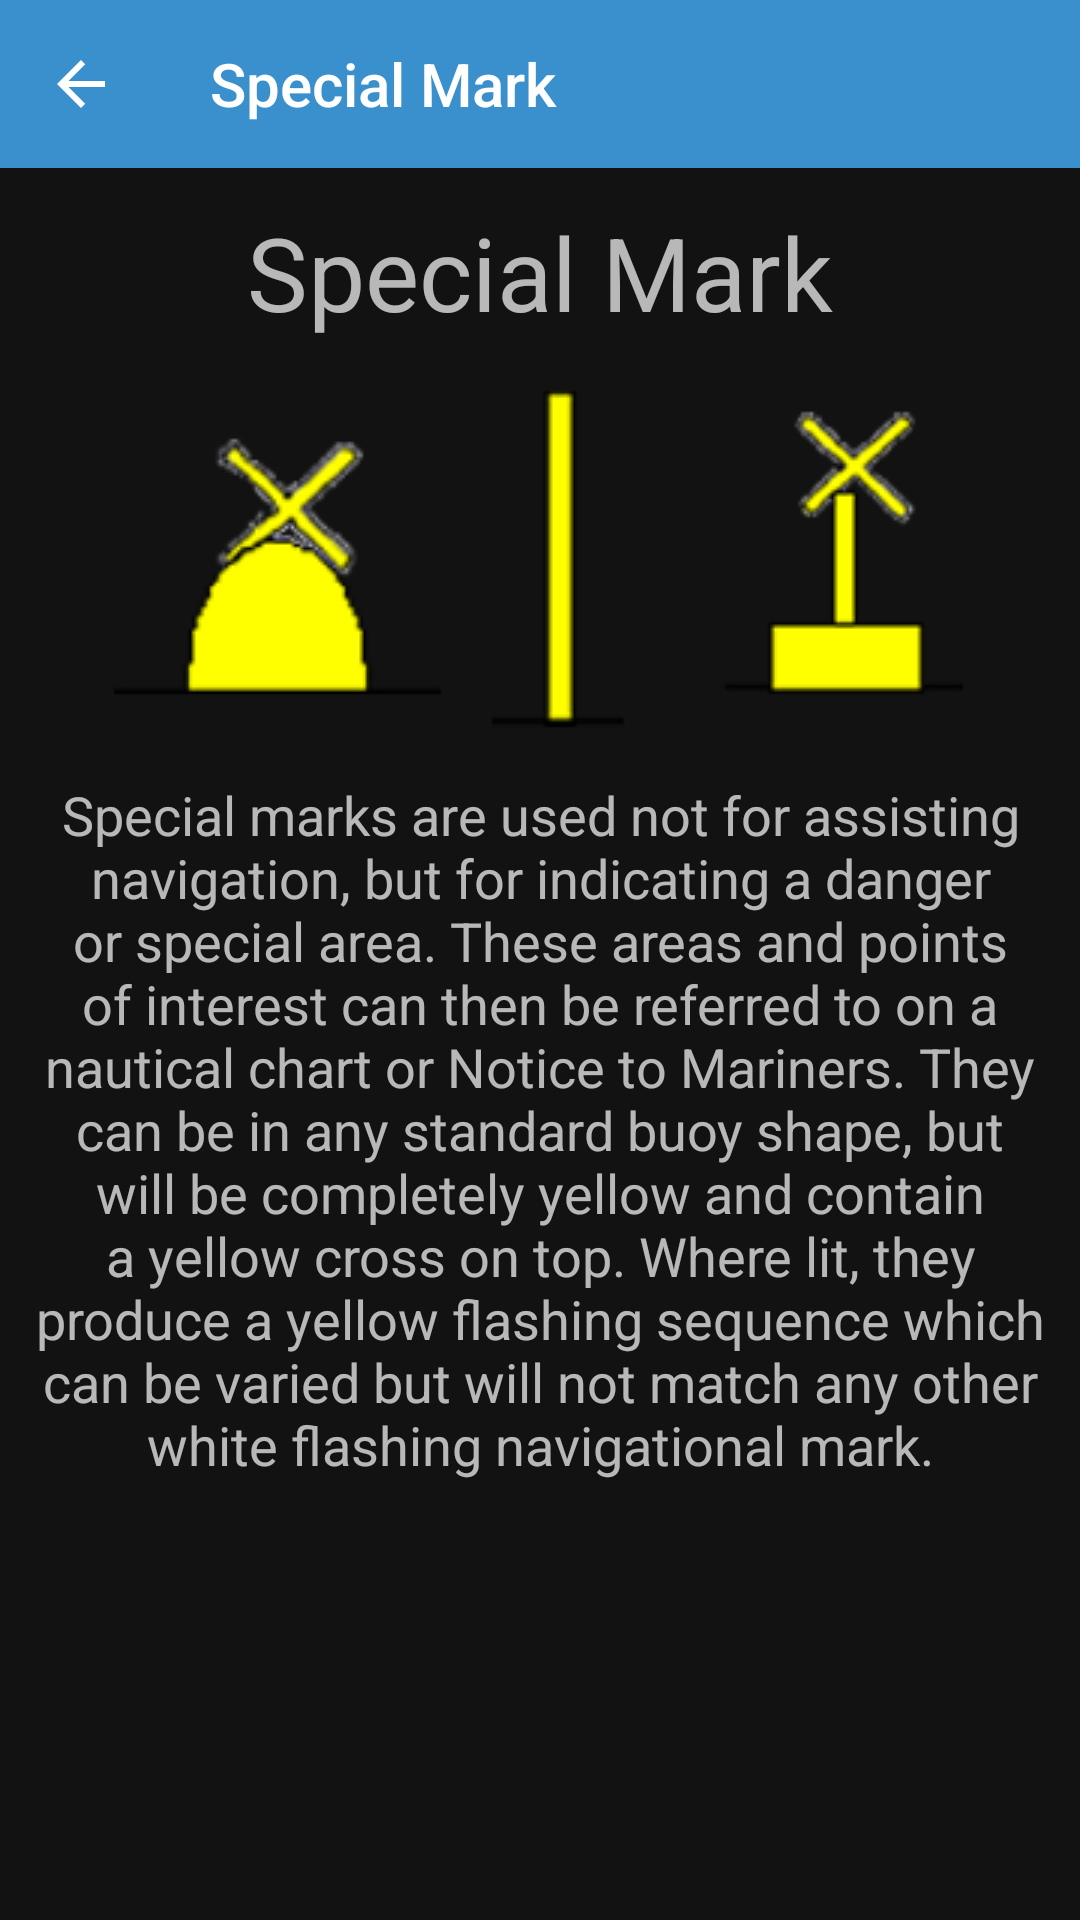

Icons on this 1080px×1920px Android screen, each with the point to tap as (x=x, y=y):
arrow back: (x=81, y=84)
